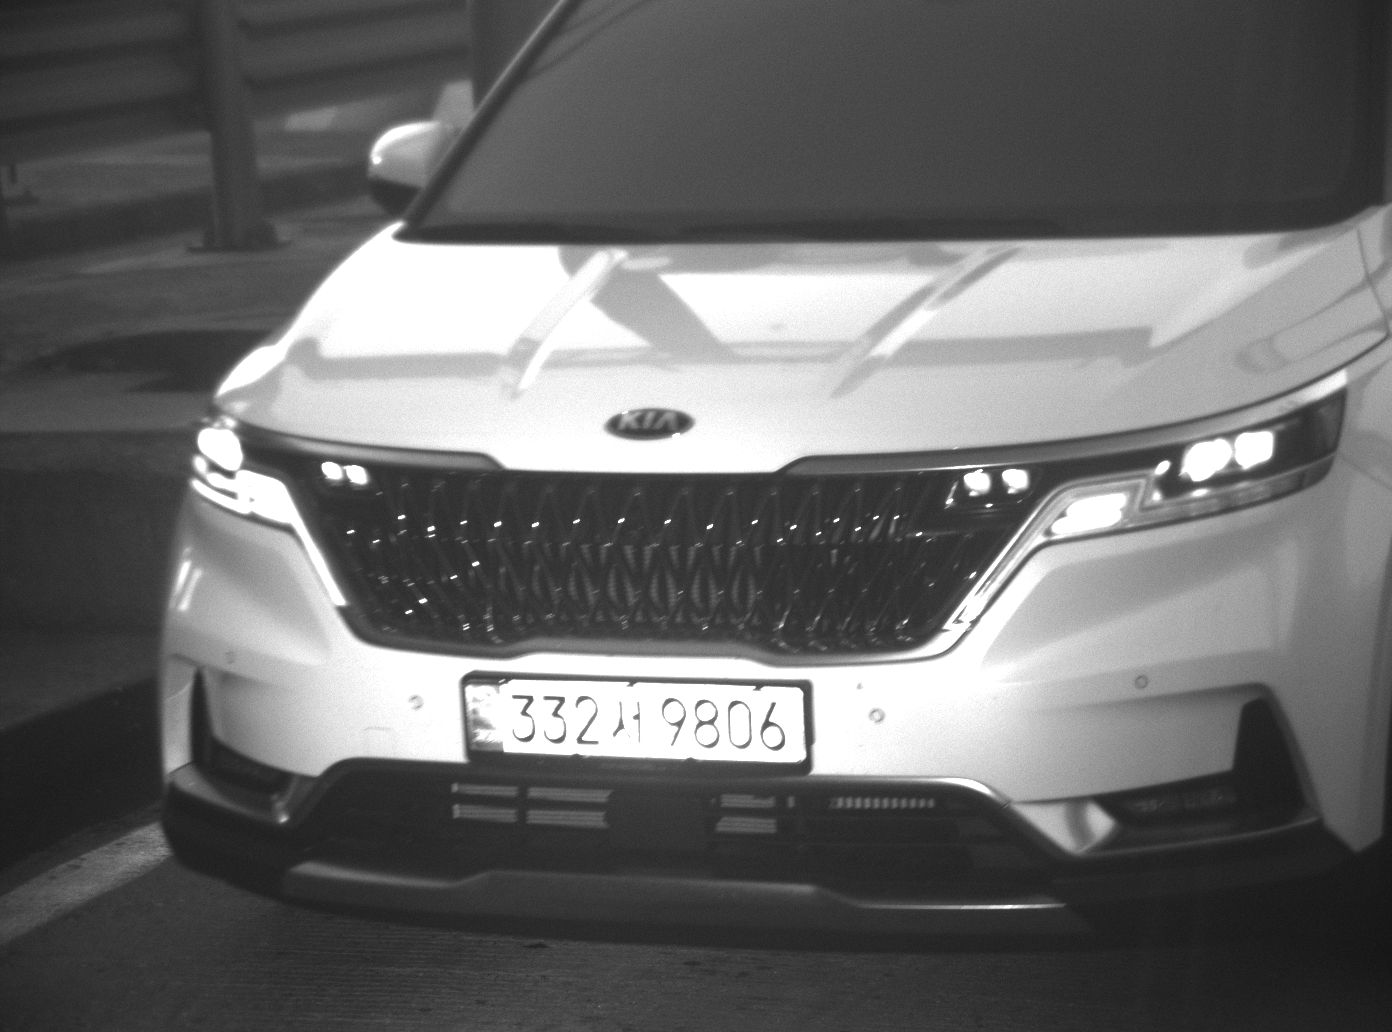car: (150, 1, 1392, 955)
plate: (461, 672, 812, 767)
